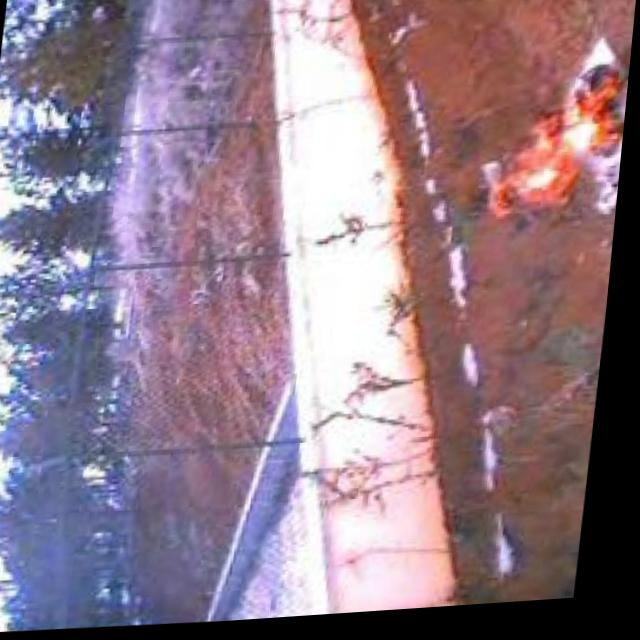Fire: (486, 50, 634, 231)
